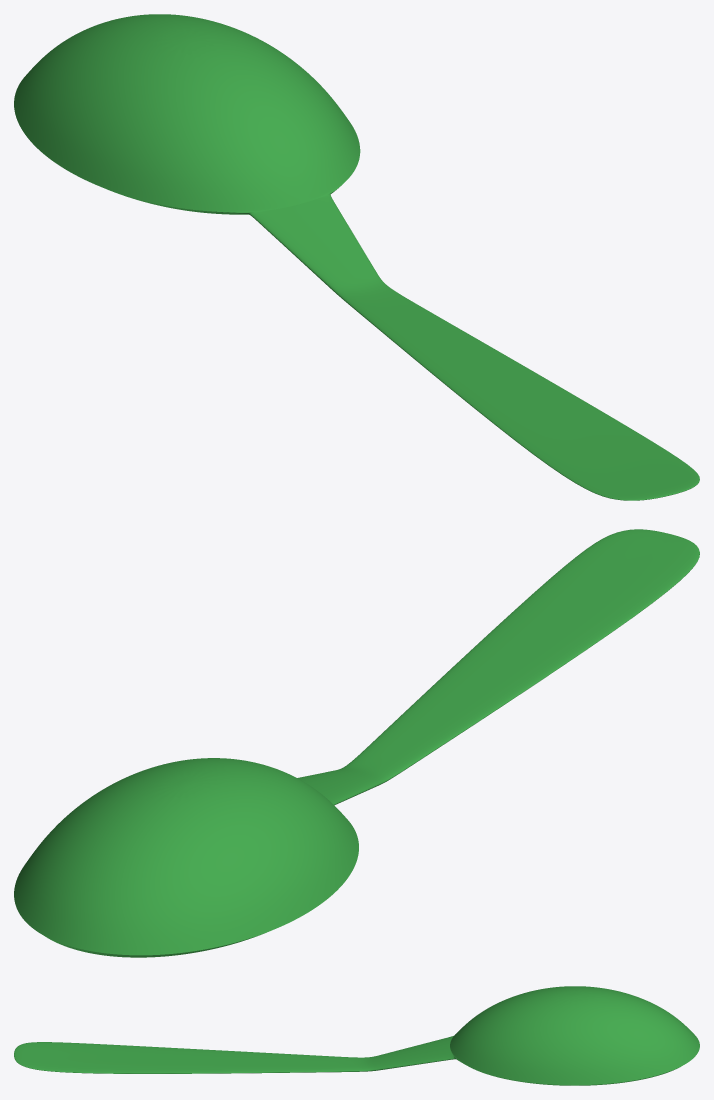
Rendered from Cuillère.fbx.
3 renders of one model, top to bottom at view 1: azimuth 30°, elevation 25°; view 2: azimuth 150°, elevation 25°; view 3: azimuth 270°, elevation 25°, orthographic. The views are drawn at different scales.
Visible parts, largest first — view 1: pSphere1; view 2: pSphere1; view 3: pSphere1.
Part boxes in pixels (bbox=[...]): pSphere1: bbox=[14, 14, 699, 500]; pSphere1: bbox=[14, 529, 699, 957]; pSphere1: bbox=[14, 986, 699, 1085].
Bounding box in the file's own units: 1.84 × 0.7993 × 6.95.
